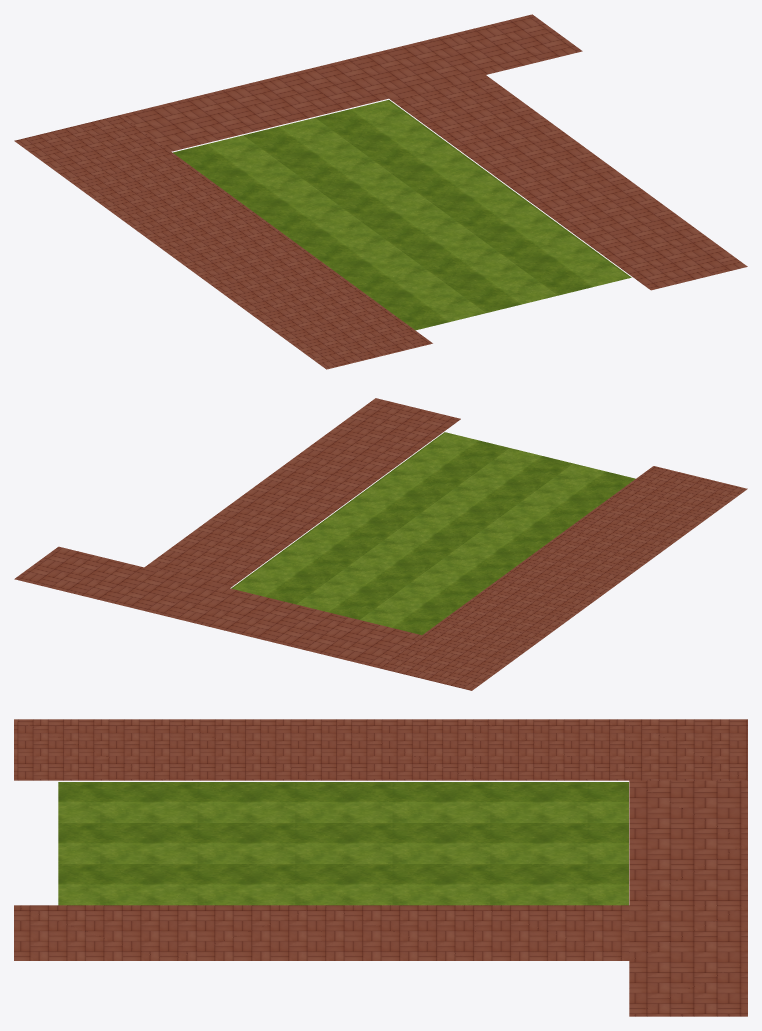
File: bg_road.FBX
3 views of the same model, one above another, from view 1: azimuth 30°, elevation 25°; view 2: azimuth 150°, elevation 25°; view 3: azimuth 270°, elevation 25° (orthographic). The views are drawn at different scales.
Visible parts, largest first — view 1: bg_road; view 2: bg_road; view 3: bg_road.
Part boxes in pixels (x1,y1,x2,y2): bg_road: [14, 14, 747, 369]; bg_road: [14, 398, 747, 690]; bg_road: [14, 719, 747, 1016].
Bounding box in the file's own units: 288 × 0.5287 × 301.
